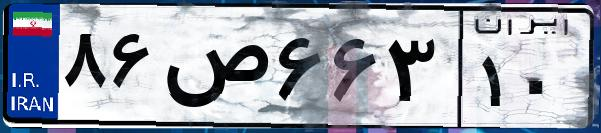0: (525, 38, 570, 115)
1: (475, 38, 525, 113)
3: (385, 28, 445, 110)
6: (270, 28, 330, 110), (330, 28, 385, 110), (110, 28, 158, 98)
8: (57, 26, 110, 100)
ص: (158, 20, 270, 120)
